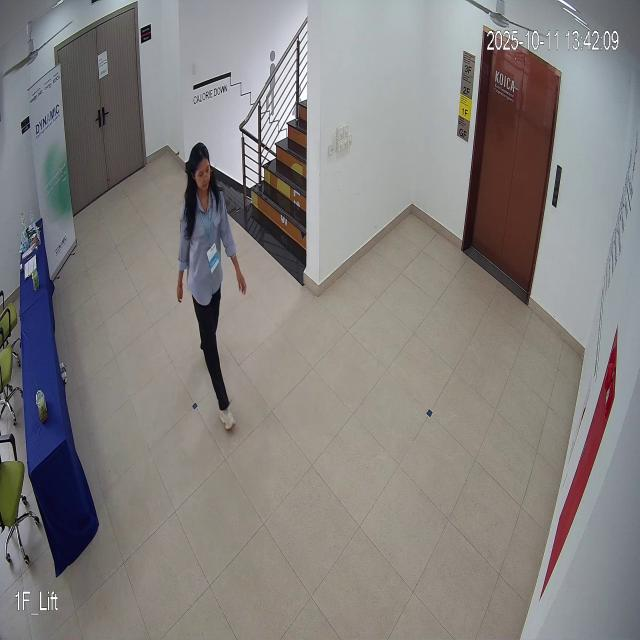face: (184, 141, 217, 202)
